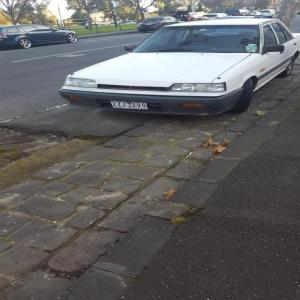Plate: (110, 101, 148, 109)
